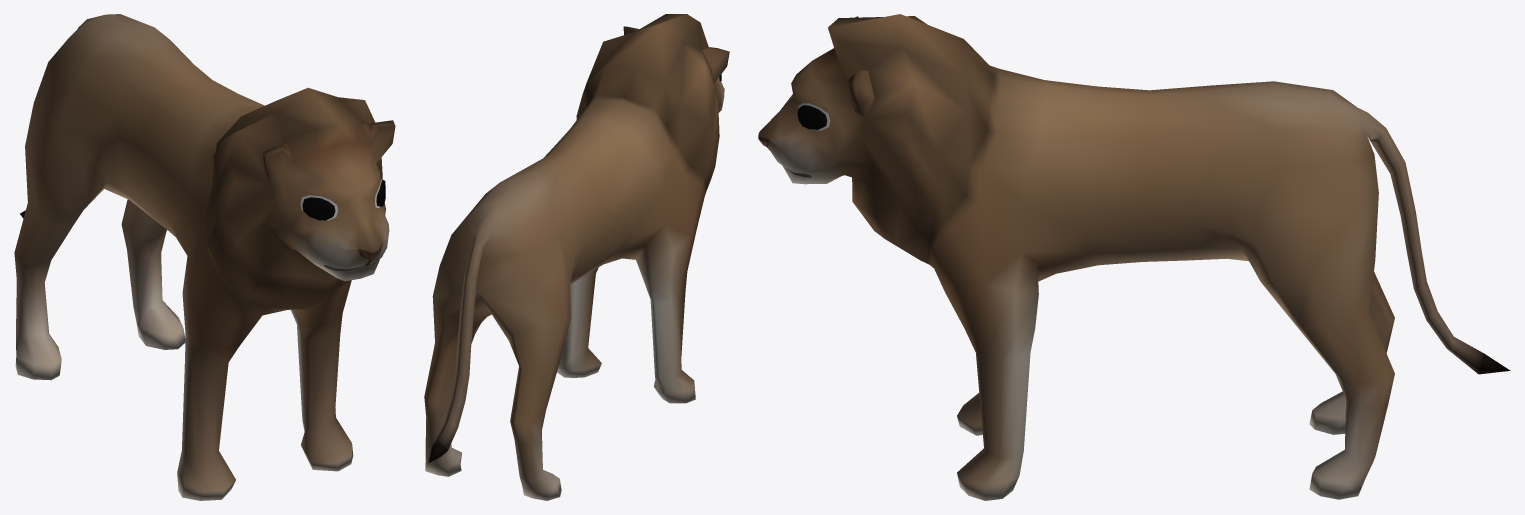
Rendered from Lion.gltf.
The picture shows the model from 3 angles, left to right: view 1: azimuth 30°, elevation 25°; view 2: azimuth 150°, elevation 25°; view 3: azimuth 270°, elevation 25°; orthographic projection. The views are drawn at different scales.
Parts seen in each view (by area): view 1: alt604; view 2: alt604; view 3: alt604.
Part boxes in pixels (box(x1,y1,x2,y2)): alt604: box(14, 14, 395, 500); alt604: box(424, 14, 729, 500); alt604: box(758, 14, 1510, 500).
Bounding box in the file's own units: 0.6699 × 1.56 × 2.4.
